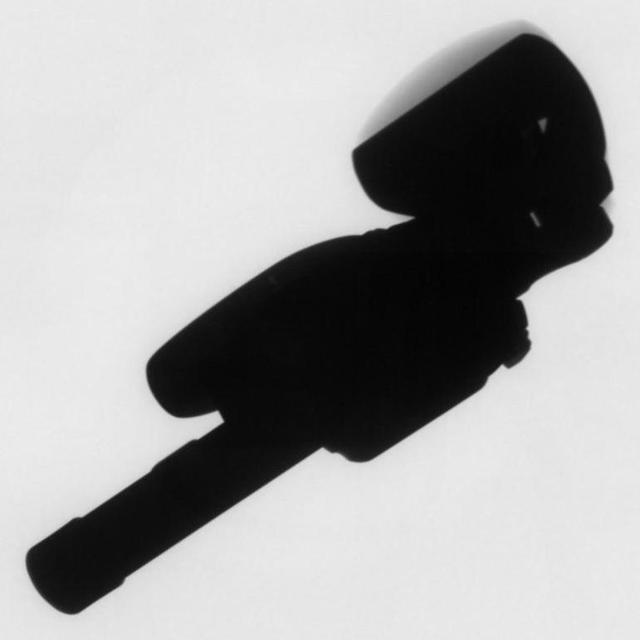gun: (27, 27, 618, 625)
